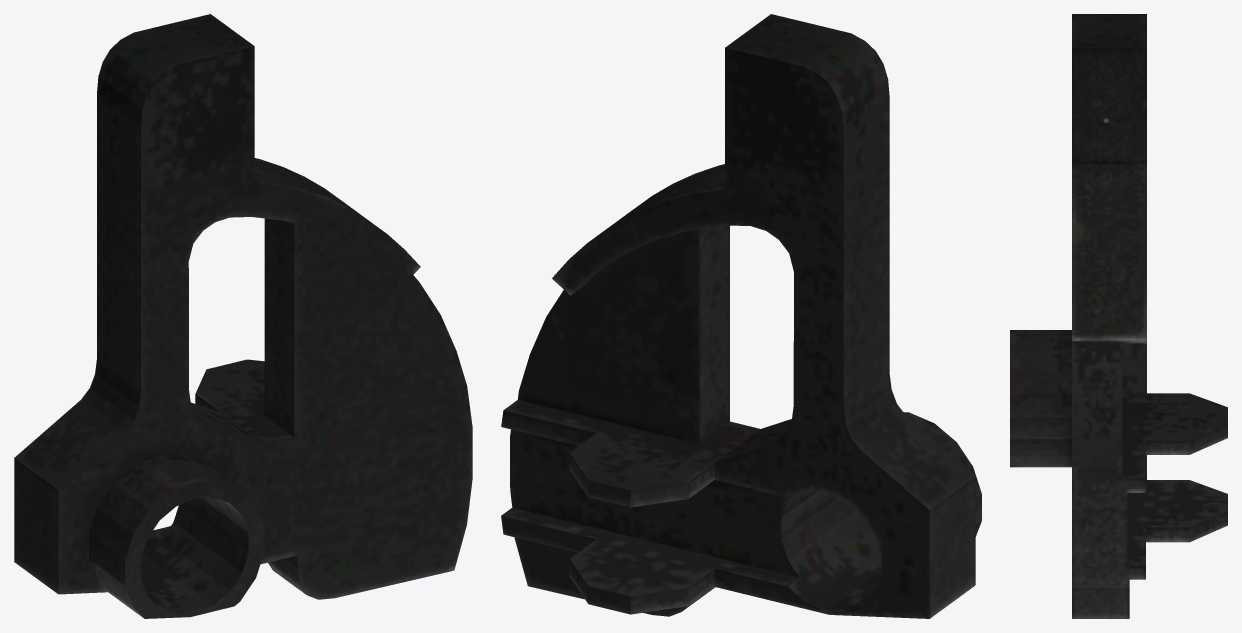
3 views of the same model, side by side, from view 1: azimuth 30°, elevation 25°; view 2: azimuth 150°, elevation 25°; view 3: azimuth 270°, elevation 25° (orthographic). The views are drawn at different scales.
Parts seen in each view (by area): view 1: TW_60db29ce99594040e04c4a27_PZ_Import; view 2: TW_60db29ce99594040e04c4a27_PZ_Import; view 3: TW_60db29ce99594040e04c4a27_PZ_Import.
Boxes of the visible parts, <box> form: TW_60db29ce99594040e04c4a27_PZ_Import: <box>14,14,472,618</box>; TW_60db29ce99594040e04c4a27_PZ_Import: <box>501,14,981,618</box>; TW_60db29ce99594040e04c4a27_PZ_Import: <box>1010,14,1227,618</box>.
Bounding box in the file's own units: 0.0224 × 0.012 × 0.0296.
Materials: 1 (1 with a texture image).
